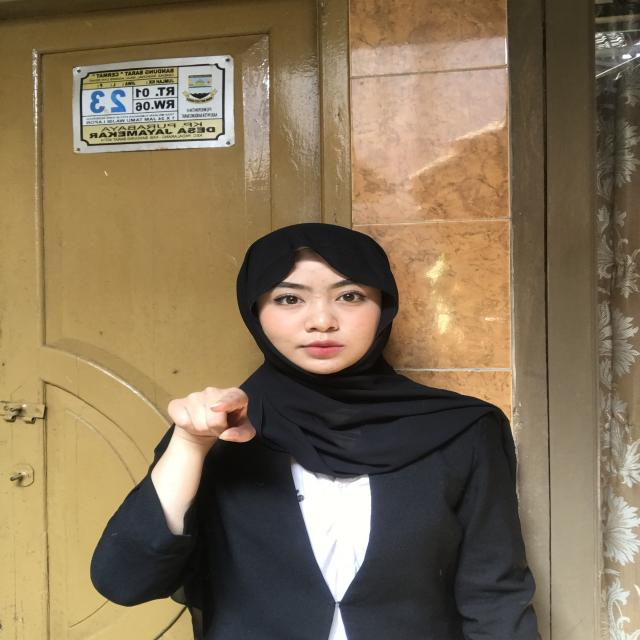kamu: (94, 369, 312, 479)
